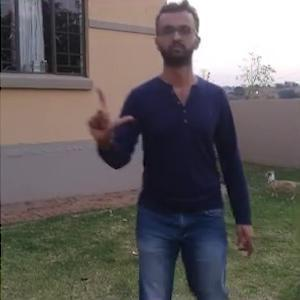land_hand: (82, 79, 136, 143)
